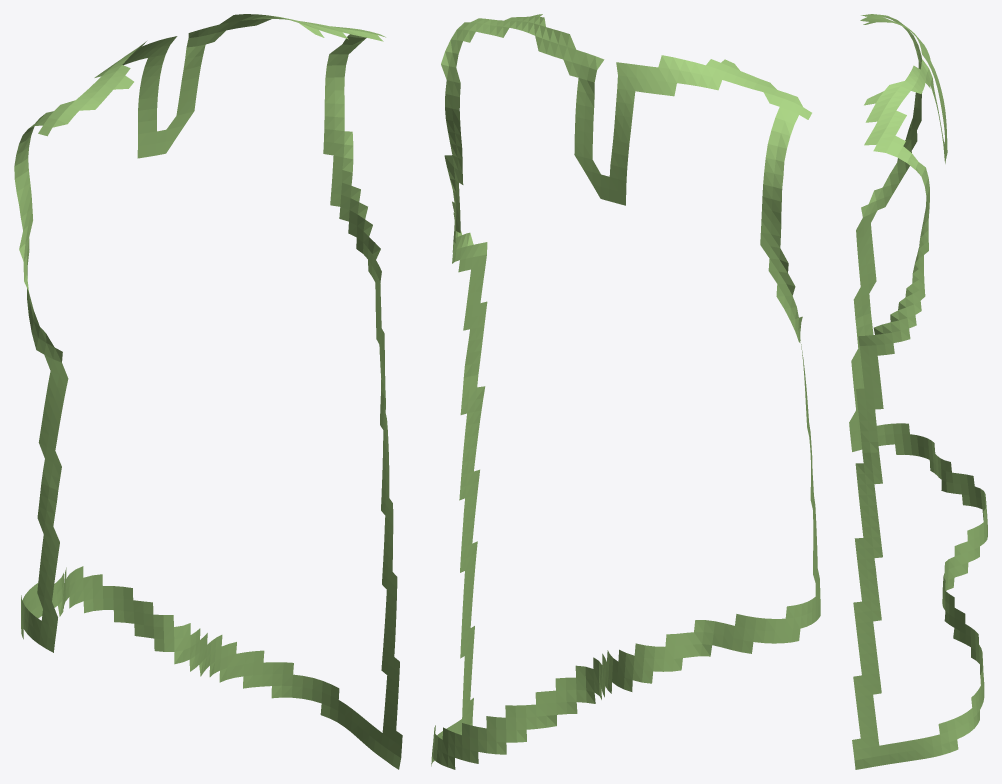
The model's file is selected_mesh1.obj.
The picture shows the model from 3 angles, left to right: view 1: azimuth 30°, elevation 25°; view 2: azimuth 150°, elevation 25°; view 3: azimuth 270°, elevation 25°; orthographic projection. The views are drawn at different scales.
Size of the model in its own units: 0.7252 by 1.49 by 0.288.
